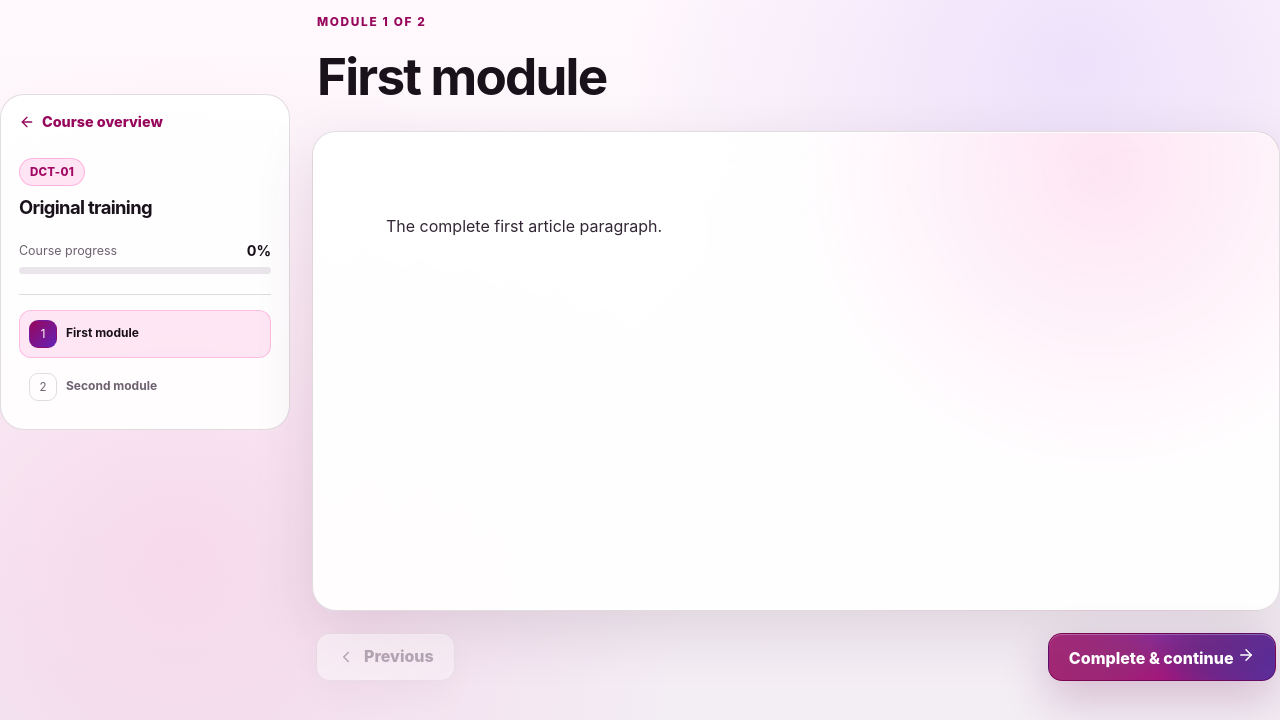
Test: learner course article flow › keeps lesson content visible, saves completion, and moves to the next article
Expected: the heading "First module" is shown, [317,45,606,107]
Expected: the text "The complete first article paragraph." is shown, [386,216,662,236]
What coordinates should you click on to do the following:
click the button "Complete & continue"
I would click on:
 (1162, 657)
Its box is [1048,633,1276,681].
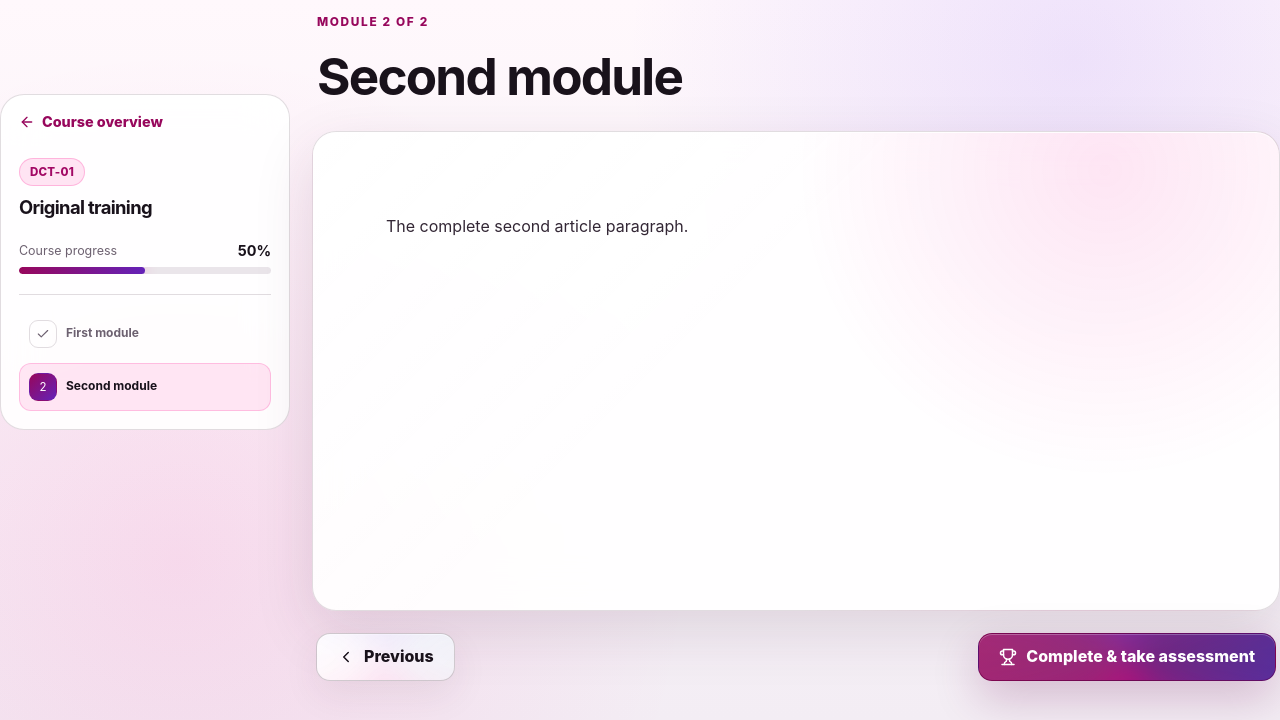
Expected: the heading "Second module" is shown, [317,45,682,107]
Expected: the text "The complete second article paragraph." is shown, [386,216,688,236]
Expected: the button "Complete & take assessment" is shown, [978,633,1276,681]
